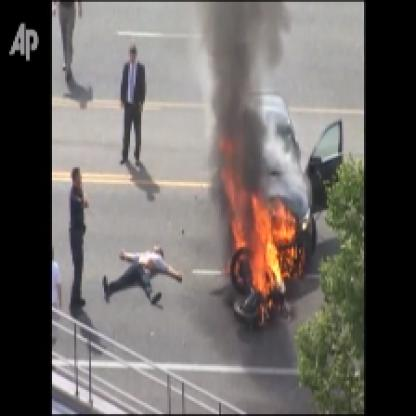Fire: (218, 167, 306, 312)
Smoke: (200, 2, 280, 212)
